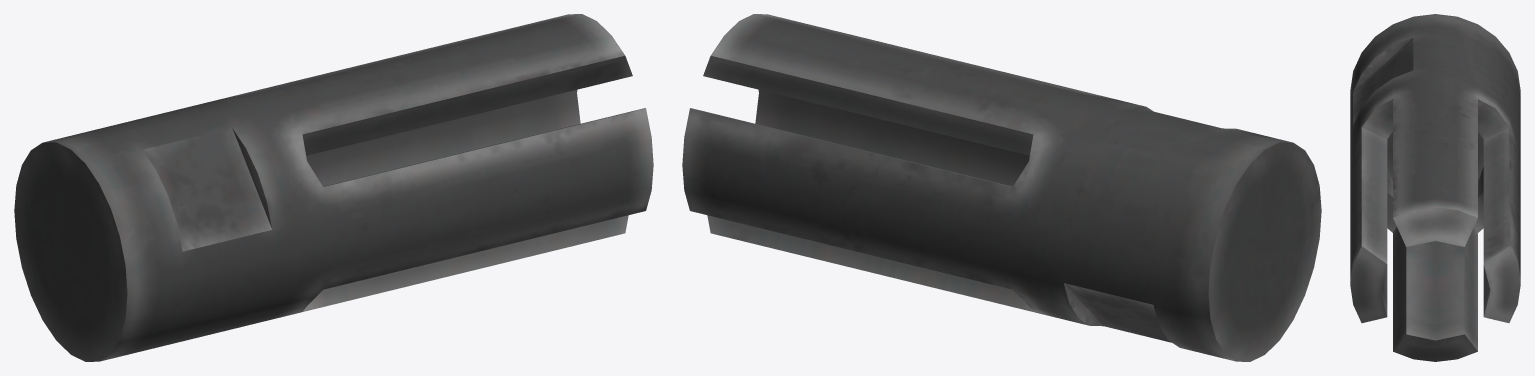
The model's file is ST_Muzzle_FlashHider_Mini14.FBX.
The picture shows the model from 3 angles, left to right: view 1: azimuth 30°, elevation 25°; view 2: azimuth 150°, elevation 25°; view 3: azimuth 270°, elevation 25°; orthographic projection. The views are drawn at different scales.
Parts seen in each view (by area): view 1: ST_Muzzle_FlashHider_Mini14; view 2: ST_Muzzle_FlashHider_Mini14; view 3: ST_Muzzle_FlashHider_Mini14.
Boxes of the visible parts, x1,y1,x2,y2 form: ST_Muzzle_FlashHider_Mini14: (14, 14, 653, 361); ST_Muzzle_FlashHider_Mini14: (682, 14, 1321, 361); ST_Muzzle_FlashHider_Mini14: (1350, 14, 1520, 361).
Bounding box in the file's own units: 6.7 × 2.42 × 2.42.
Materials: 1 (1 with a texture image).
